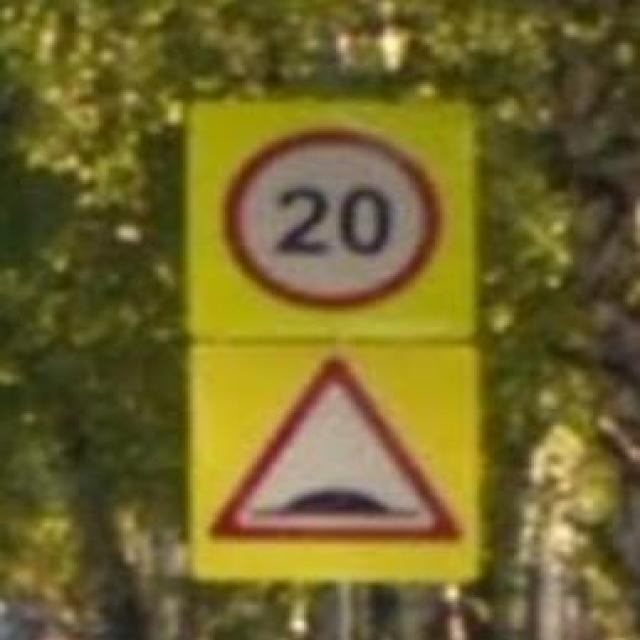forb_speed_over_20: (222, 127, 445, 313)
